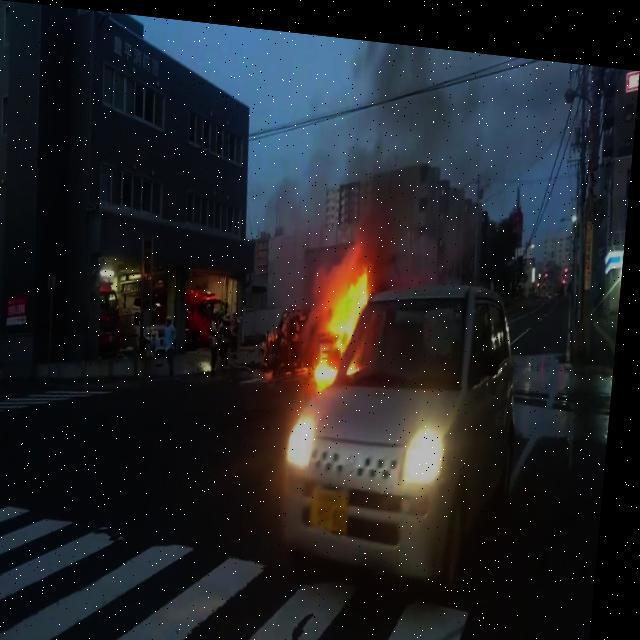Fire: (324, 254, 374, 348), (318, 350, 346, 384), (352, 352, 366, 369)
